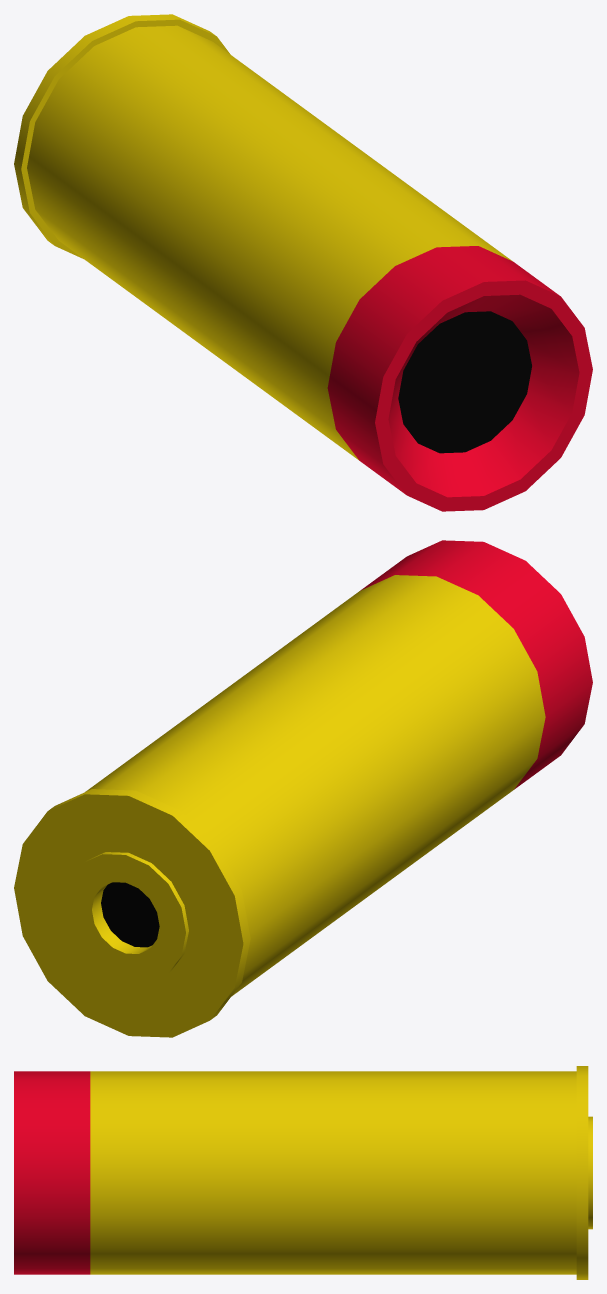
The model's file is casing.fbx.
3 views of the same model, one above another, from view 1: azimuth 30°, elevation 25°; view 2: azimuth 150°, elevation 25°; view 3: azimuth 270°, elevation 25° (orthographic). The views are drawn at different scales.
Visible parts, largest first — view 1: casing; view 2: casing; view 3: casing.
Boxes of the visible parts, x1,y1,x2,y2 form: casing: [14, 14, 592, 511]; casing: [14, 540, 592, 1037]; casing: [14, 1066, 592, 1279].
Size of the model in its own units: 0.0745 by 0.0745 by 0.2013.
